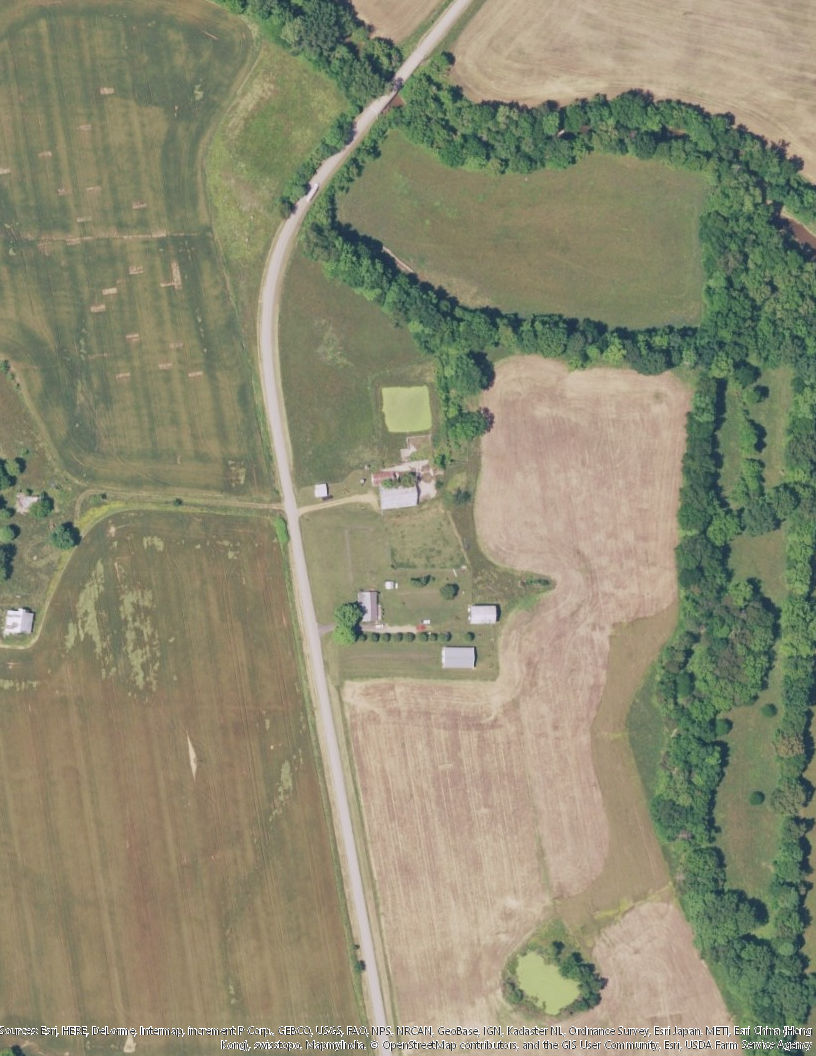cafo: (369, 471, 421, 510)
